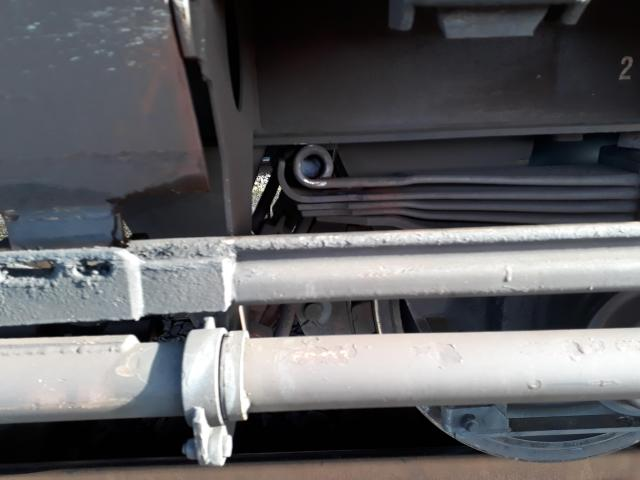blattfederww: (263, 145, 638, 218)
